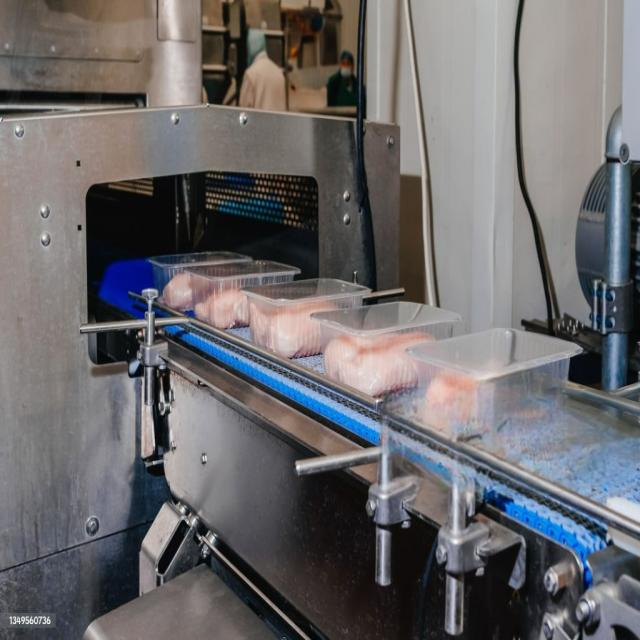food: (404, 324, 580, 443), (316, 297, 464, 406), (242, 280, 374, 357)
